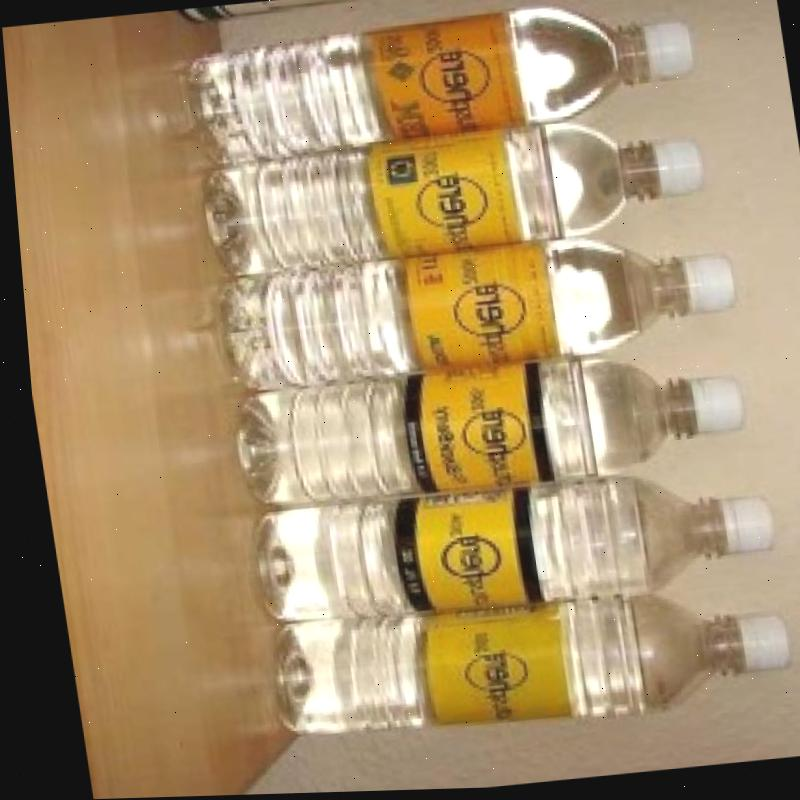botella: (192, 212, 740, 400), (243, 567, 787, 754), (233, 460, 775, 634), (218, 338, 743, 514), (159, 4, 699, 156), (192, 114, 713, 271)
